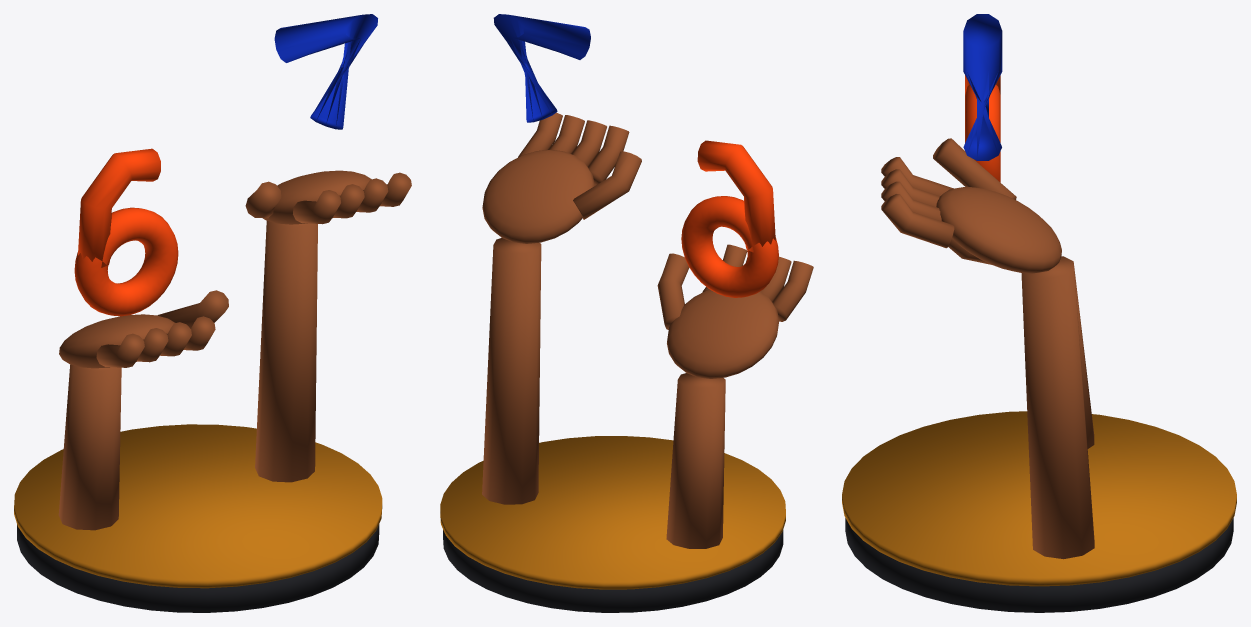
File: SixSevenHands.fbx
3 renders of one model, left to right at view 1: azimuth 30°, elevation 25°; view 2: azimuth 150°, elevation 25°; view 3: azimuth 270°, elevation 25°, orthographic. The views are drawn at different scales.
Visible parts, largest first — view 1: SixSevenHands; view 2: SixSevenHands; view 3: SixSevenHands.
Part boxes in pixels (bbox=[...]): SixSevenHands: bbox=[14, 14, 411, 612]; SixSevenHands: bbox=[440, 14, 813, 612]; SixSevenHands: bbox=[842, 14, 1236, 612].
Bounding box in the file's own units: 2.44 × 3.73 × 2.44.
Materials: 1 (1 with a texture image).
